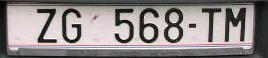-: (187, 23, 197, 29)
5: (113, 8, 134, 44)
6: (138, 7, 160, 45)
8: (165, 7, 184, 44)
G: (61, 8, 82, 43)
M: (225, 6, 246, 44)
T: (202, 7, 222, 43)
Z: (37, 8, 58, 45)
